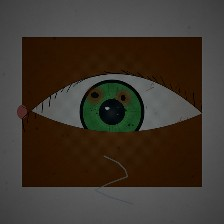foreign_body_visible: (108, 85, 139, 110)
